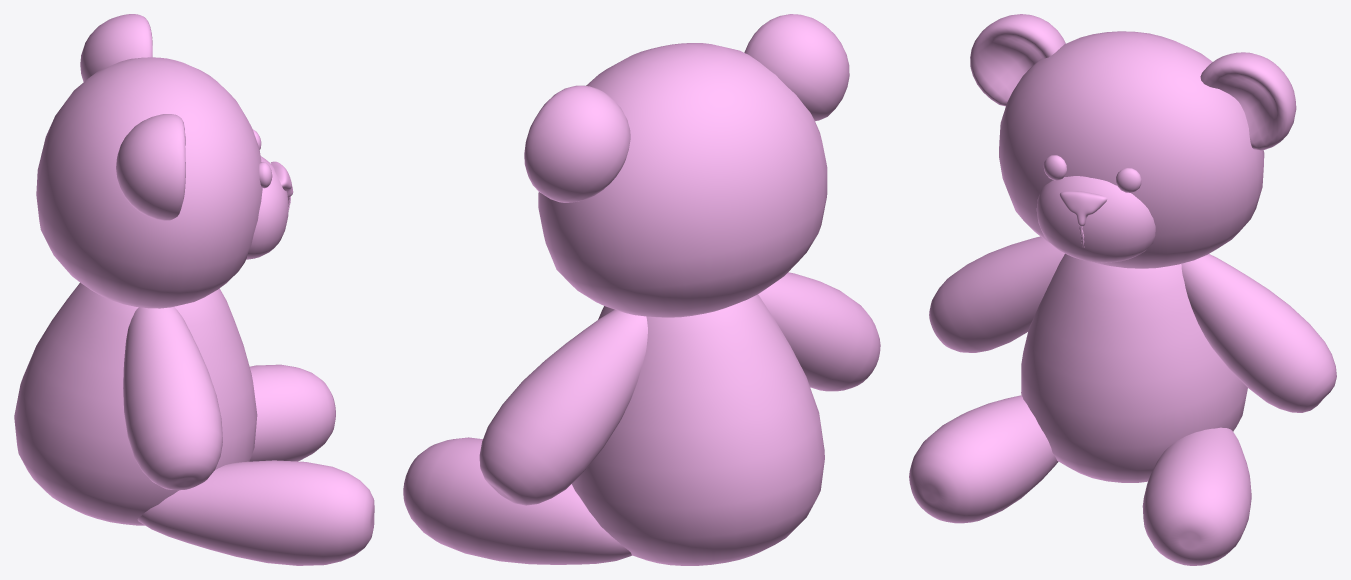
The model's file is pooo.fbx.
3 views of the same model, side by side, from view 1: azimuth 30°, elevation 25°; view 2: azimuth 150°, elevation 25°; view 3: azimuth 270°, elevation 25° (orthographic). The views are drawn at different scales.
Parts seen in each view (by area): view 1: object_1; view 2: object_1; view 3: object_1, object_4, object_3.
Part boxes in pixels (bbox=[...]): object_1: bbox=[14, 14, 374, 565]; object_1: bbox=[403, 14, 880, 565]; object_1: bbox=[909, 14, 1336, 565]; object_4: bbox=[1043, 155, 1141, 192]; object_3: bbox=[1059, 191, 1107, 226].
Size of the model in its own units: 883 by 1181 by 1024.
